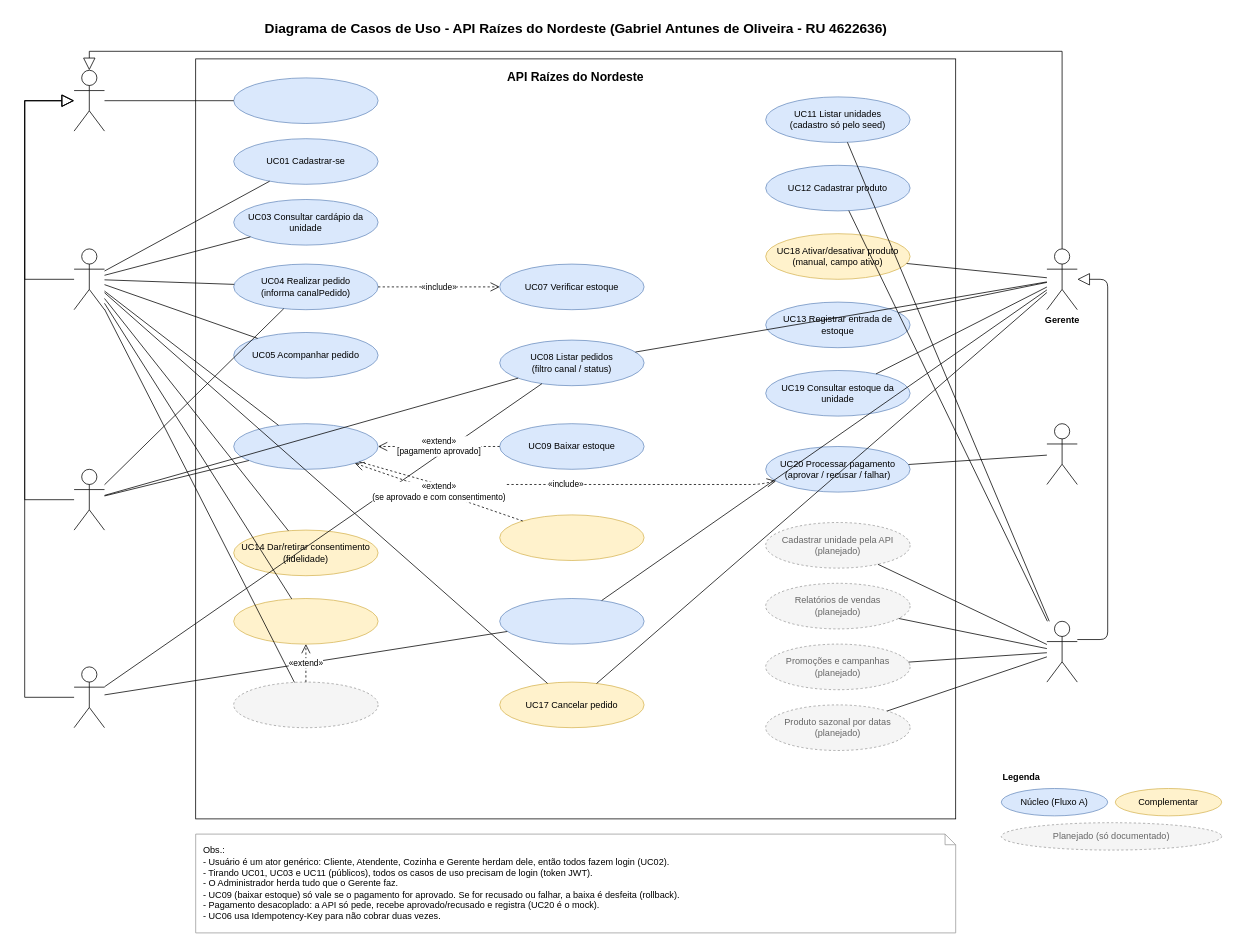
This 1243x946 diagram has some shape labels left out. Here are the shapes that lost their labels. From the top down, the centre of each, then its label:
At point (88, 100): "Usuário (genérico)".
At point (305, 100): "UC02 Fazer login (JWT)".
At point (88, 279): "Cliente (App / Web / Totem)".
At point (305, 446): "UC06 Solicitar pagamento".
At point (1061, 453): "«sistema externo» Gateway de Pagamento (mock)".
At point (88, 499): "Atendente (Balcão)".
At point (571, 537): "UC16 Ganhar pontos".
At point (305, 621): "UC15 Consultar saldo de pontos".
At point (571, 621): "UC10 Atualizar status do pedido".
At point (1061, 651): "Administrador (Matriz)".
At point (88, 697): "Cozinha".
At point (305, 704): "Resgatar pontos (planejado)".
